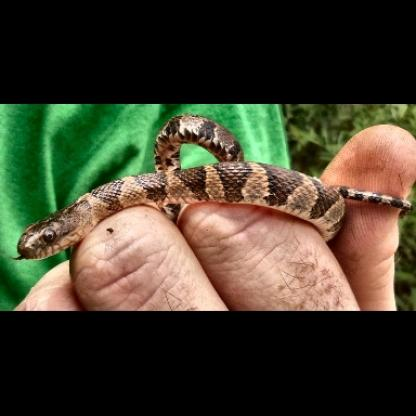Snake: (11, 108, 399, 264)
